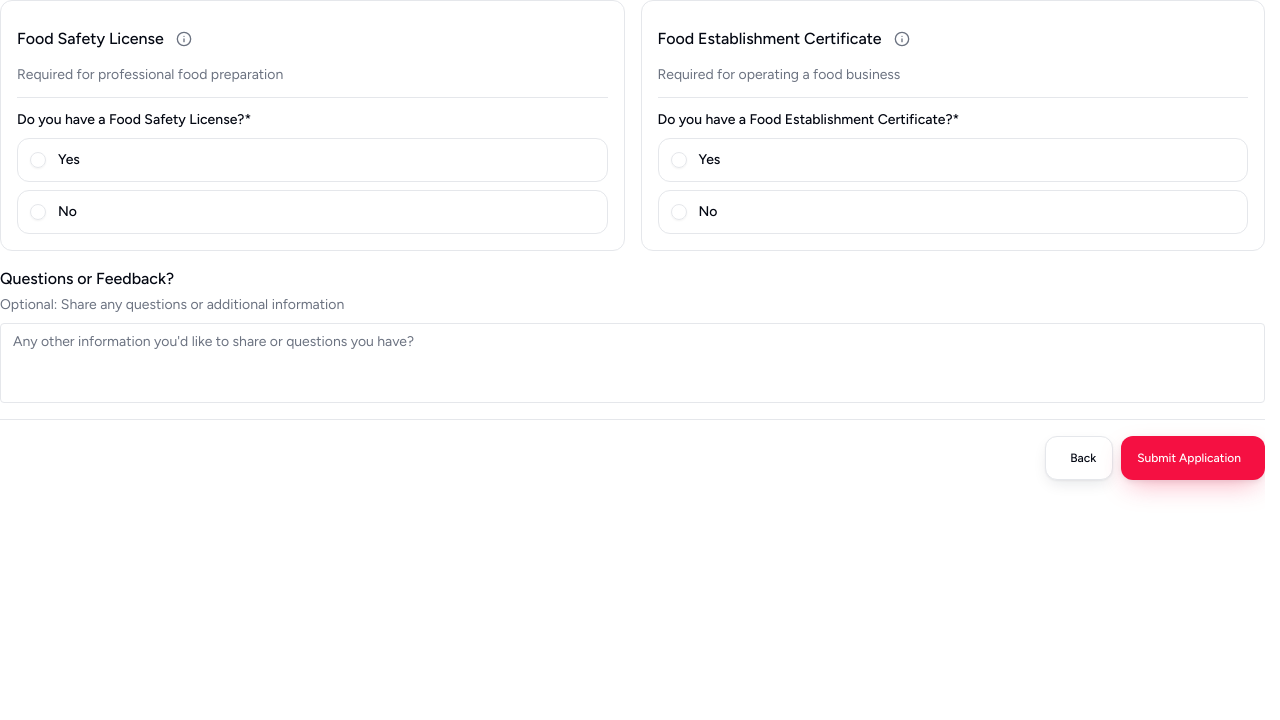
seller certifications › reverts Yes when upload 0 is dismissed outside without a document
Click the 1st radio button named "Yes".
click(38, 160)  # box [30, 152, 46, 168]
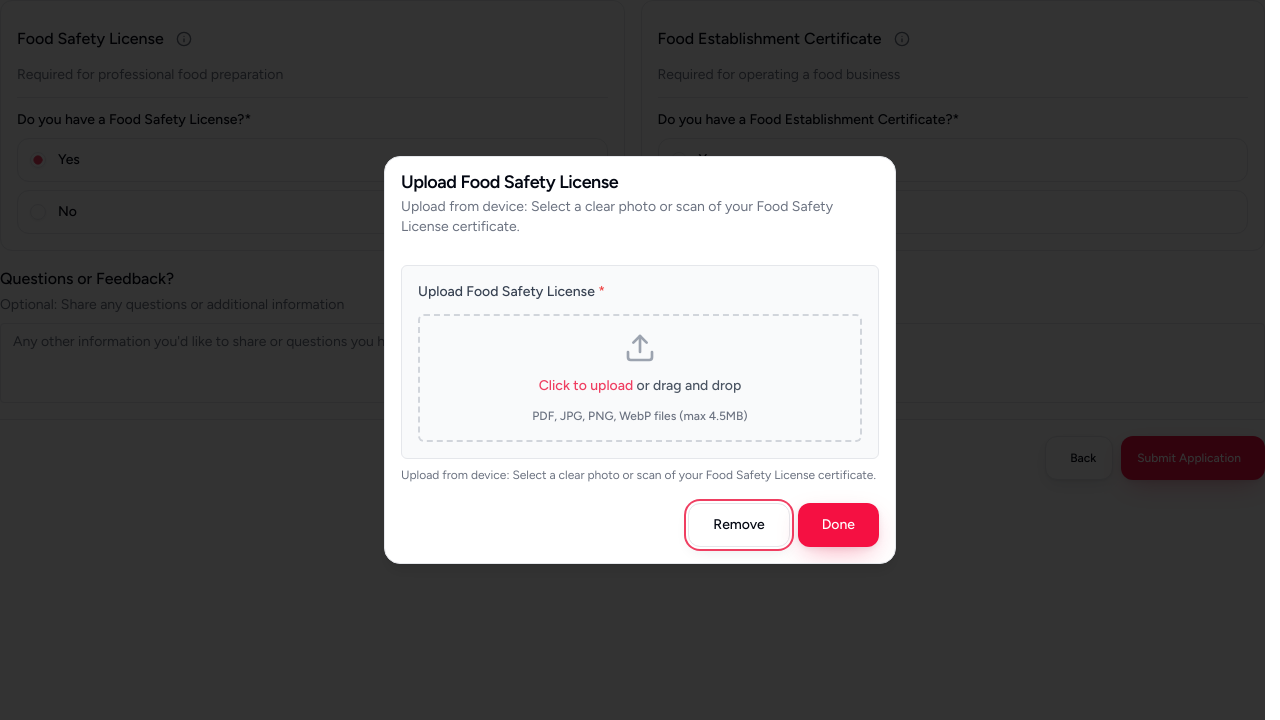
Click the element that starts with "Food Safety License".
click(632, 240)  # box [0, 0, 1265, 480]
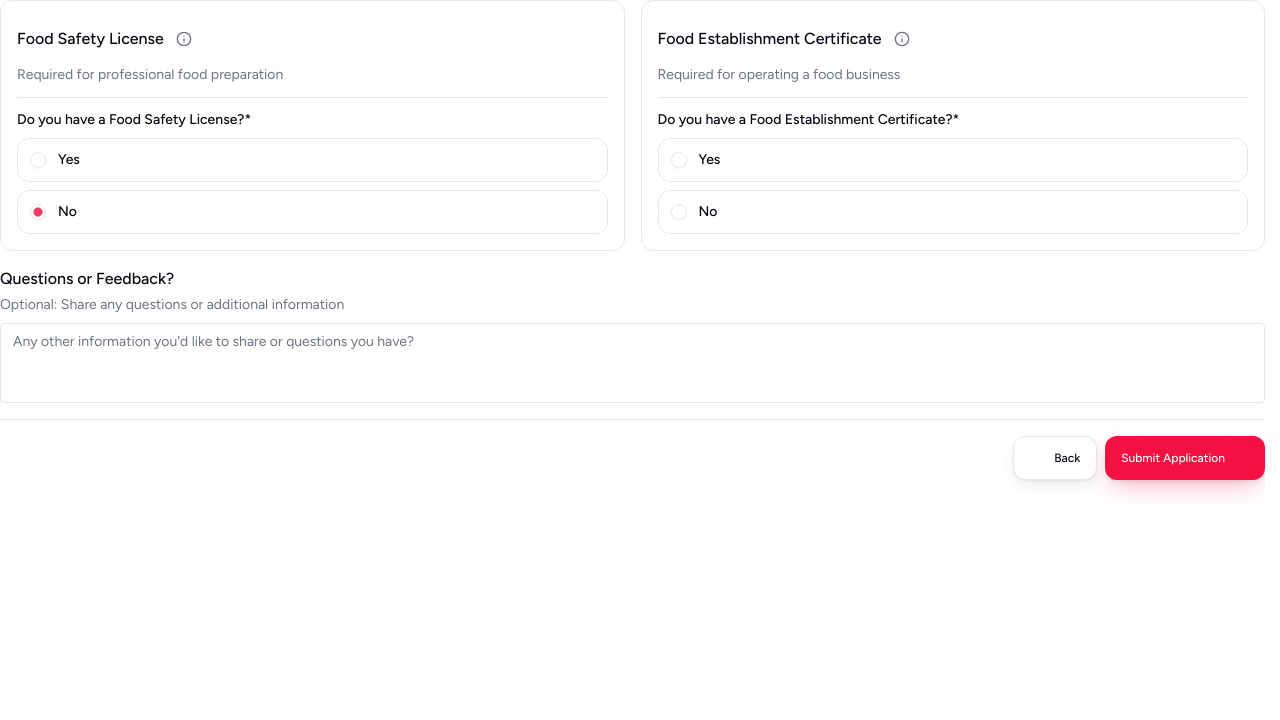
Now the dialog is gone
